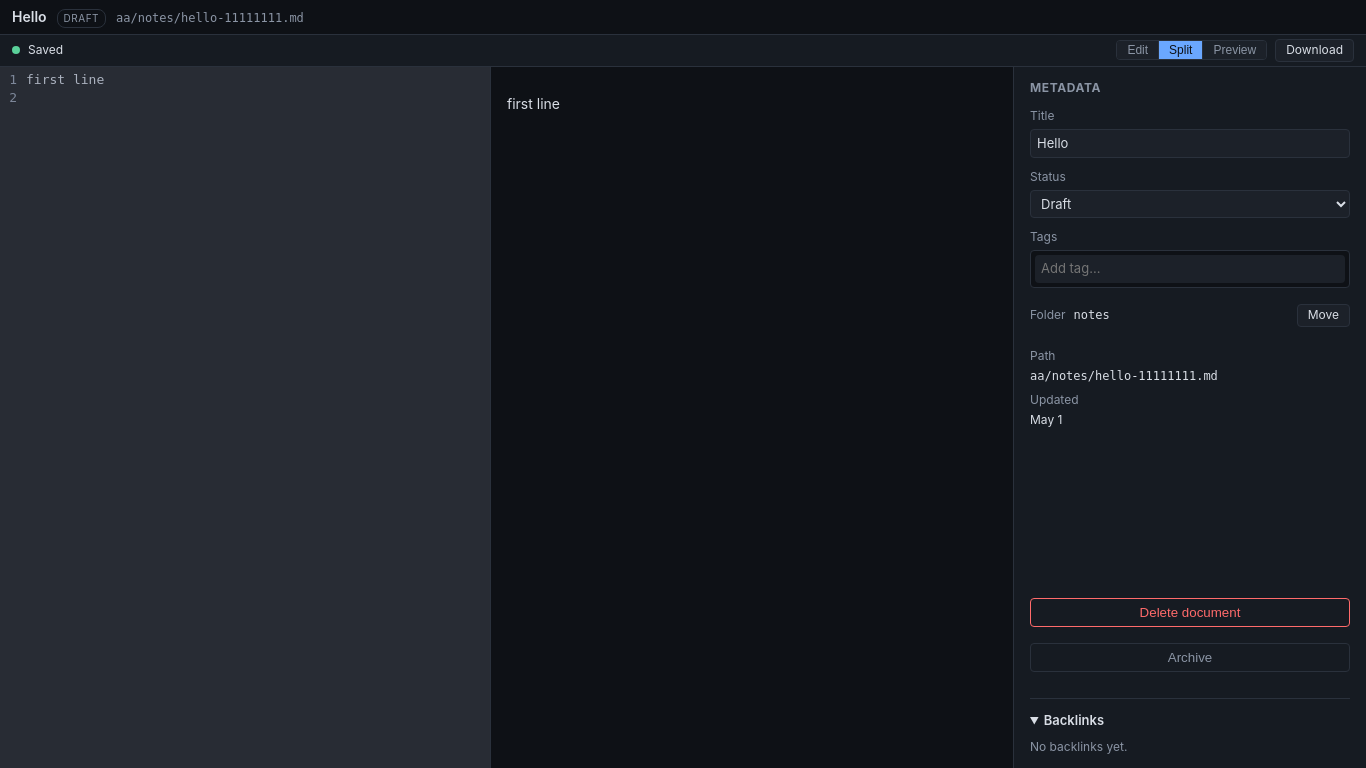
Test: DocumentWorkspace autosave during a delayed save › keeps B in the editor when the save of A returns, then persists B
Replace the text in the field showing "Hello" with "A" at (1190, 144), box x1=1030 y1=129 x2=1350 y2=158
Wait 900 ms
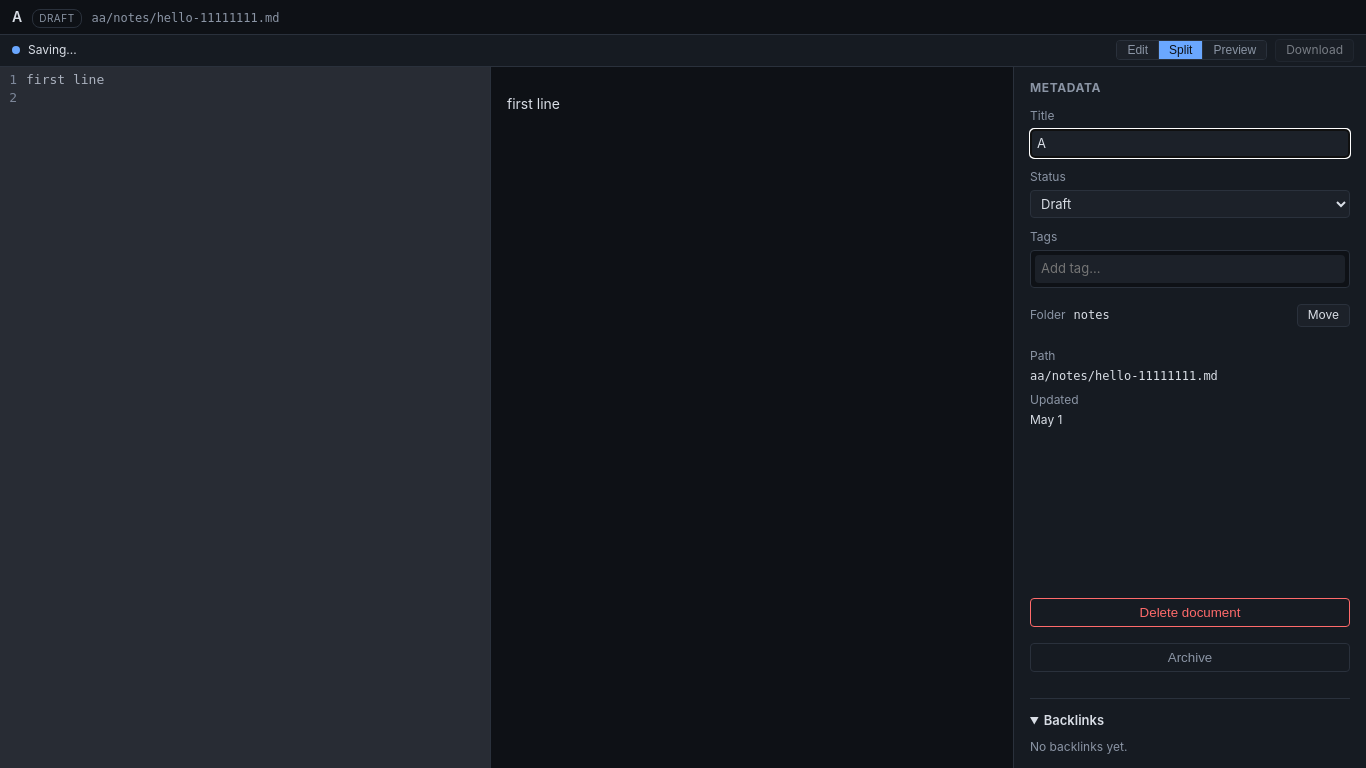
Type "B" into the field showing "Hello" at (1190, 144), box x1=1030 y1=129 x2=1350 y2=158
Wait 900 ms
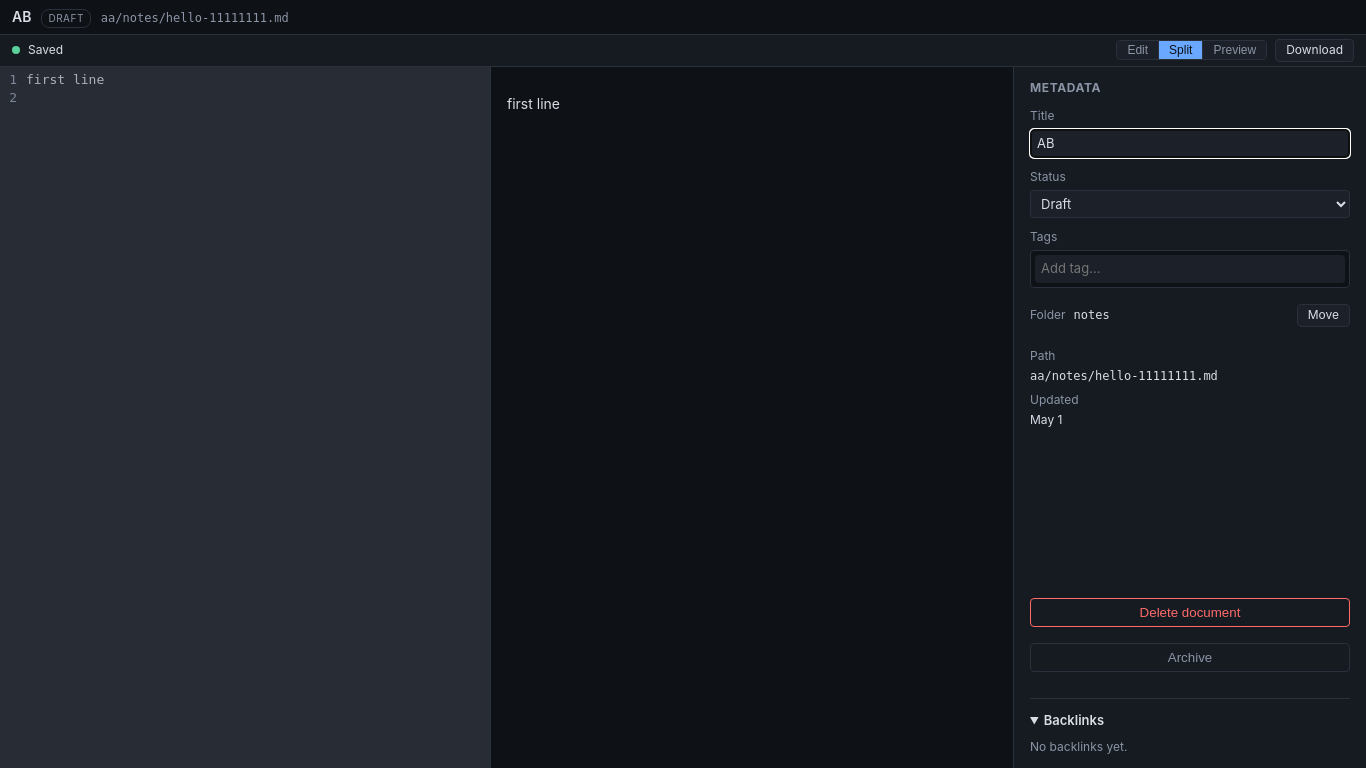
Now the text "Saved" is shown, box x1=28 y1=41 x2=63 y2=59
Now the field showing "AB" is shown, box x1=1030 y1=129 x2=1350 y2=158
